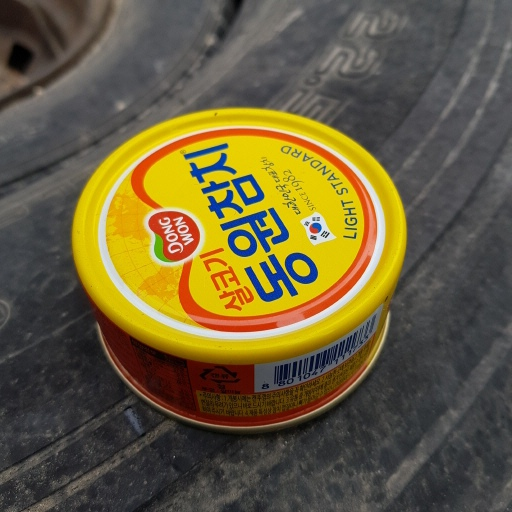Metal_1: (68, 108, 409, 435)
